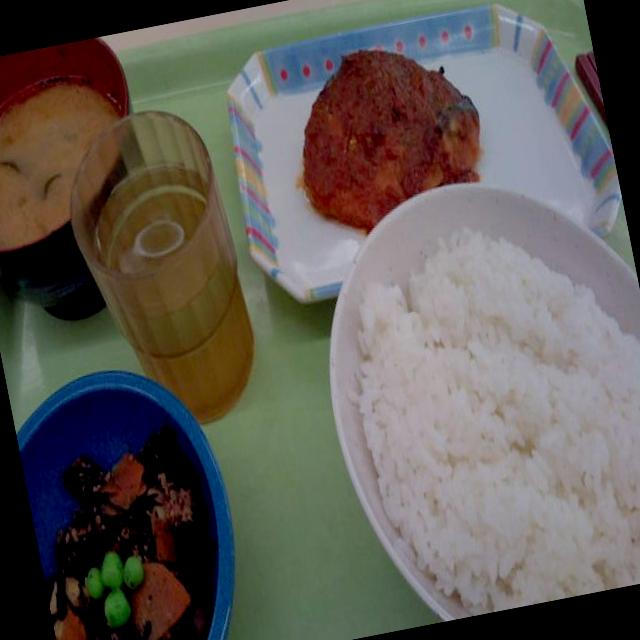Rice: (322, 193, 640, 631)
